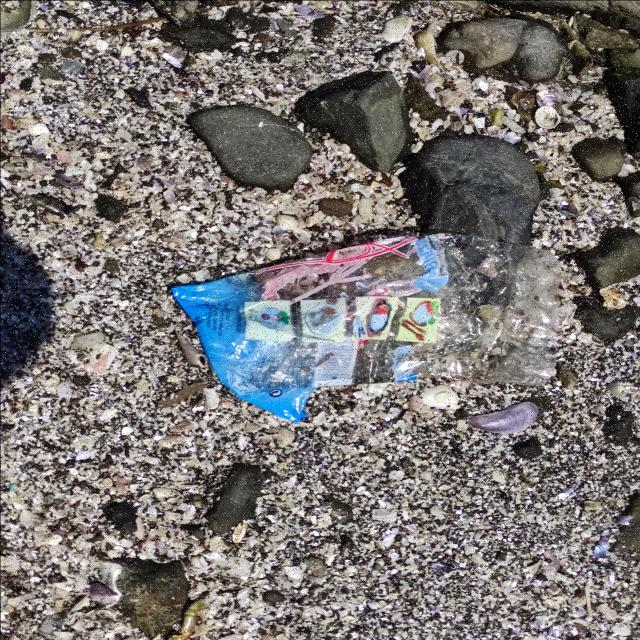plastic_waste: (170, 233, 565, 425)
